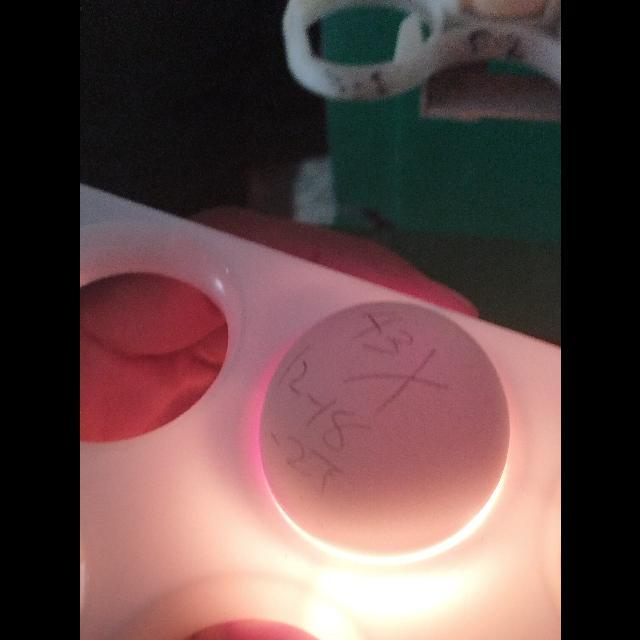Fertile: (252, 297, 514, 561)
